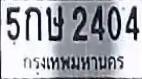0: (107, 4, 120, 40)
2: (72, 5, 86, 40)
4: (90, 4, 104, 40), (125, 5, 138, 40)
5: (5, 6, 19, 40)
A01: (24, 6, 41, 40)
A39: (45, 5, 63, 41)
BKK: (19, 53, 126, 76)
